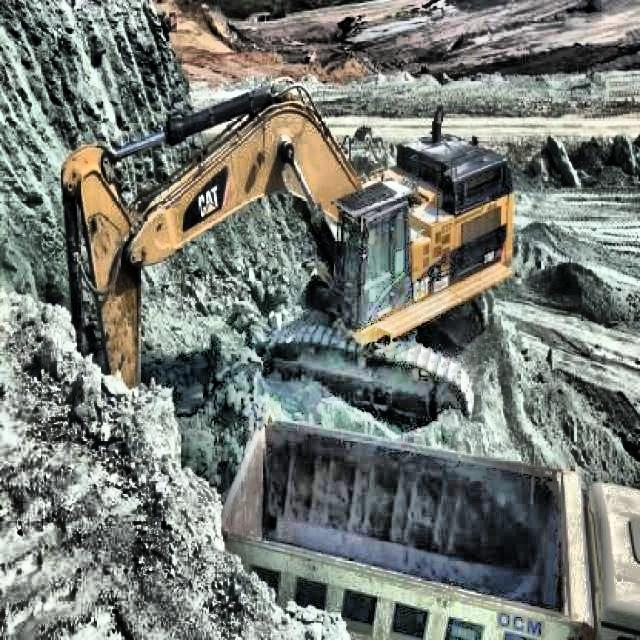dump_truck: (218, 412, 640, 637)
excavator: (58, 72, 516, 425)
